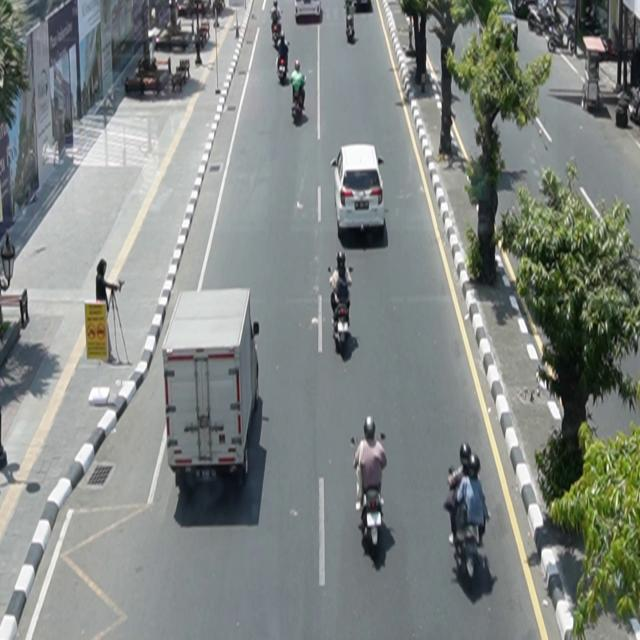car: (331, 144, 386, 239)
truck: (163, 287, 261, 493)
